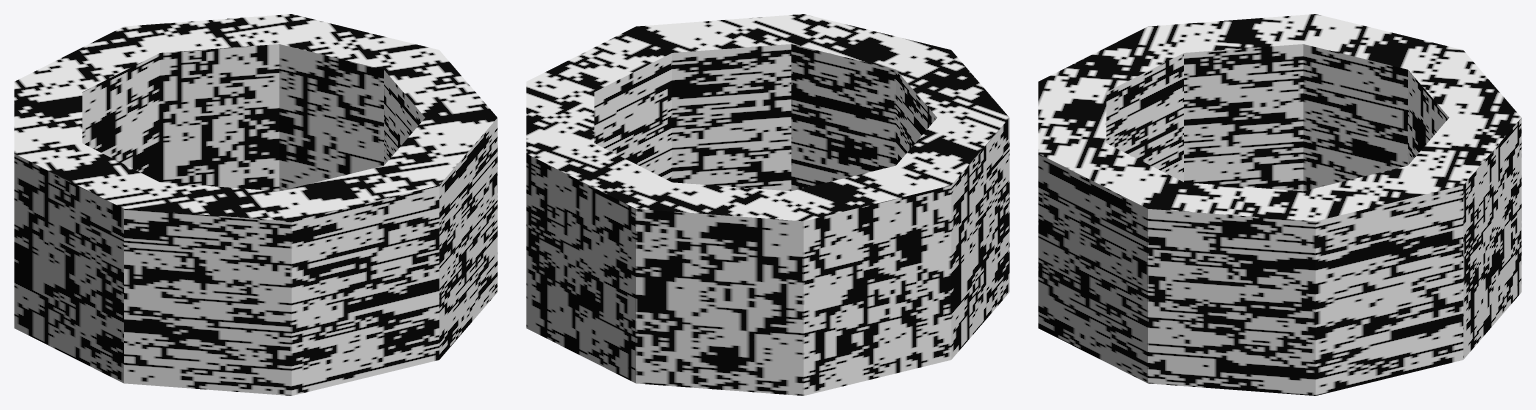
Rendered from well.fbx.
3 views of the same model, side by side, from view 1: azimuth 30°, elevation 25°; view 2: azimuth 150°, elevation 25°; view 3: azimuth 270°, elevation 25° (orthographic).
Visible parts, largest first — view 1: Cylinder; view 2: Cylinder; view 3: Cylinder.
Part boxes in pixels (x1=…): Cylinder: x1=14, y1=14, x2=497, y2=395; Cylinder: x1=526, y1=14, x2=1009, y2=395; Cylinder: x1=1038, y1=14, x2=1521, y2=395.
Size of the model in its own units: 197 by 77.36 by 194.
